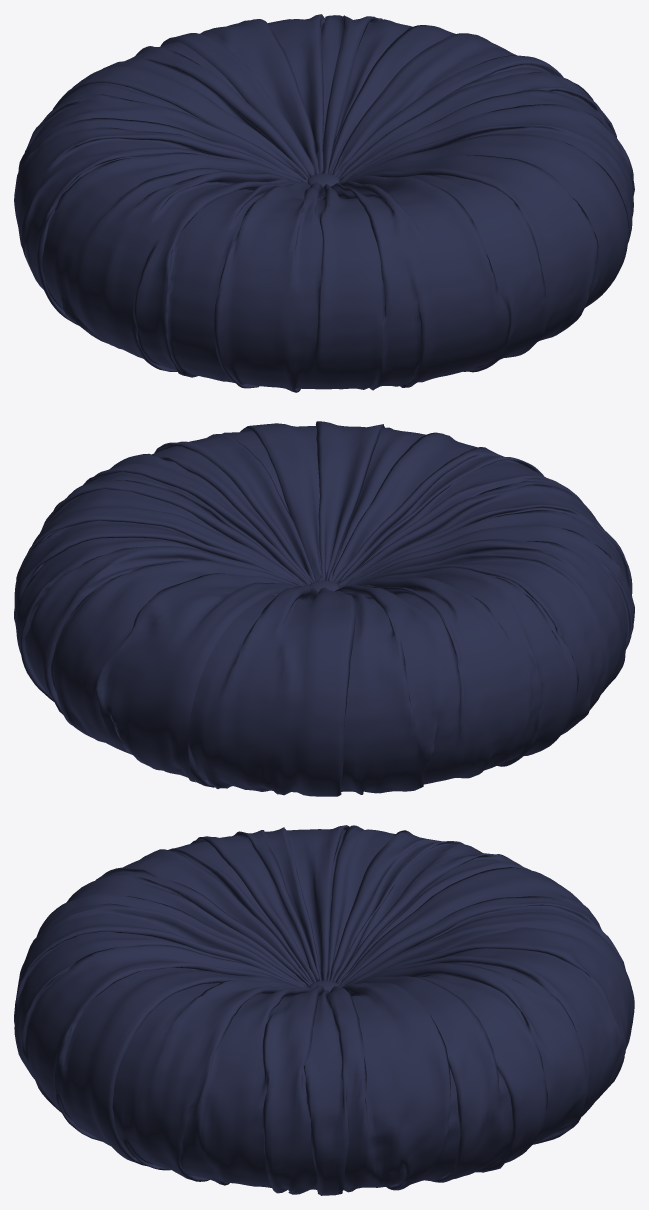
The model's file is SpecularSilkPouf.glb.
3 views of the same model, one above another, from view 1: azimuth 30°, elevation 25°; view 2: azimuth 150°, elevation 25°; view 3: azimuth 270°, elevation 25° (orthographic).
Parts seen in each view (by area): view 1: SpecularSilkPouf; view 2: SpecularSilkPouf; view 3: SpecularSilkPouf.
Boxes of the visible parts, left/top/right/bottom form: SpecularSilkPouf: left=14, top=14, right=634, bottom=392; SpecularSilkPouf: left=14, top=421, right=634, bottom=796; SpecularSilkPouf: left=14, top=825, right=634, bottom=1195.
Size of the model in its own units: 0.6099 by 0.1978 by 0.61.
